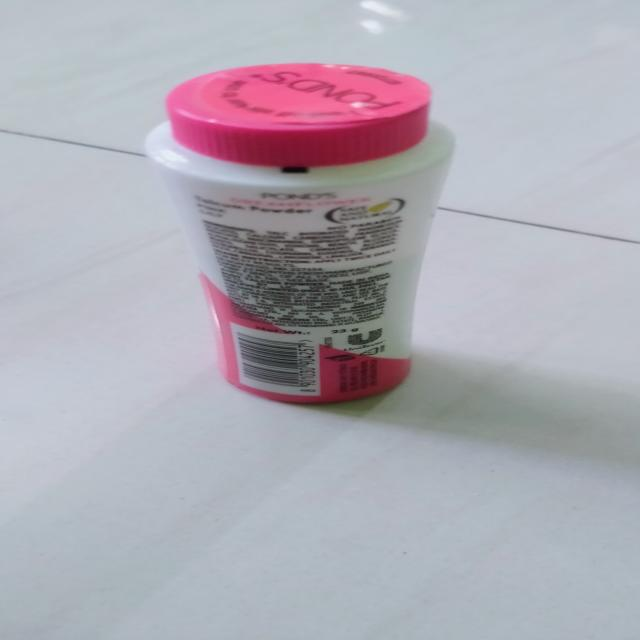powder: (160, 61, 443, 406)
